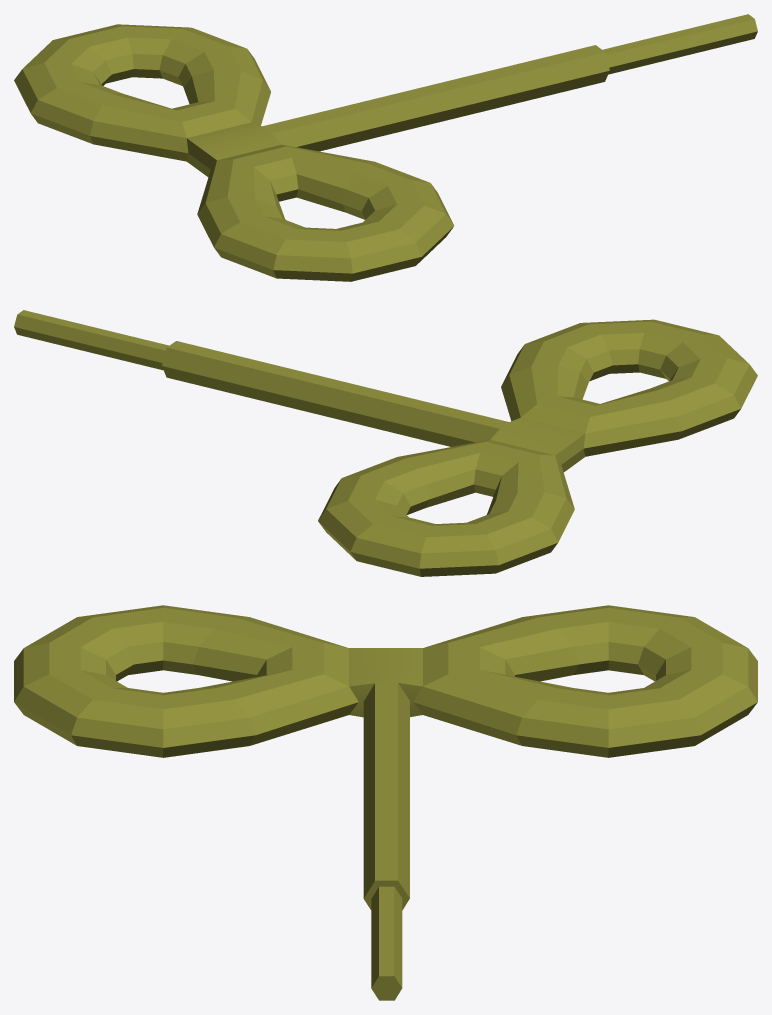
The model's file is Mouse_WindUp_01.fbx.
3 renders of one model, top to bottom at view 1: azimuth 30°, elevation 25°; view 2: azimuth 150°, elevation 25°; view 3: azimuth 270°, elevation 25°, orthographic. The views are drawn at different scales.
Parts seen in each view (by area): view 1: pTorus9; view 2: pTorus9; view 3: pTorus9.
Boxes of the visible parts, box(x1,y1,x2,y2) form: pTorus9: box(14, 14, 757, 281); pTorus9: box(14, 310, 757, 576); pTorus9: box(14, 605, 757, 1000).
Size of the model in its own units: 8.25 by 0.4747 by 6.95.
